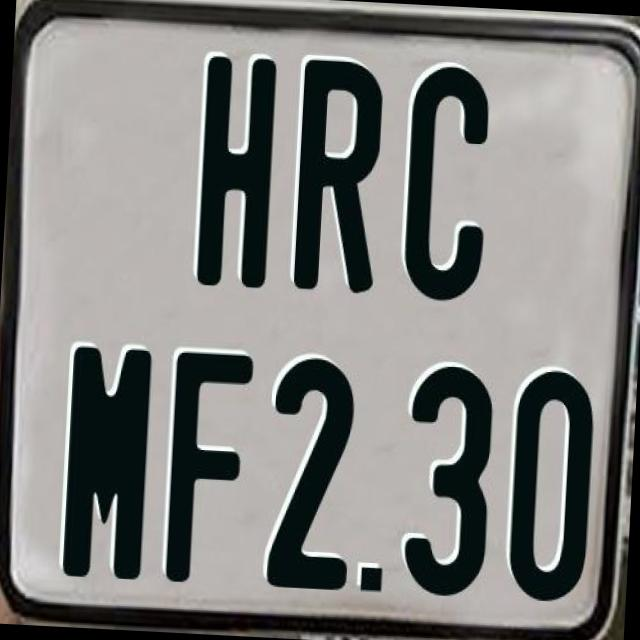0: (504, 368, 596, 604)
2: (262, 352, 362, 588)
3: (399, 363, 494, 598)
C: (398, 64, 488, 301)
F: (163, 351, 258, 588)
H: (195, 51, 279, 292)
M: (59, 342, 148, 575)
R: (289, 58, 382, 302)
